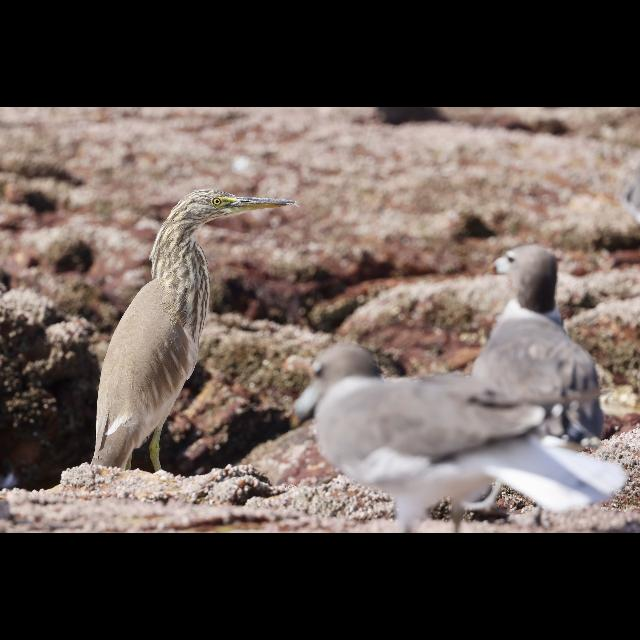heron: (85, 184, 301, 484)
